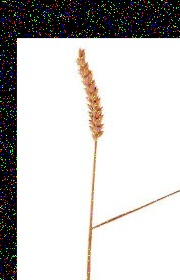wheat: (70, 49, 104, 138)
